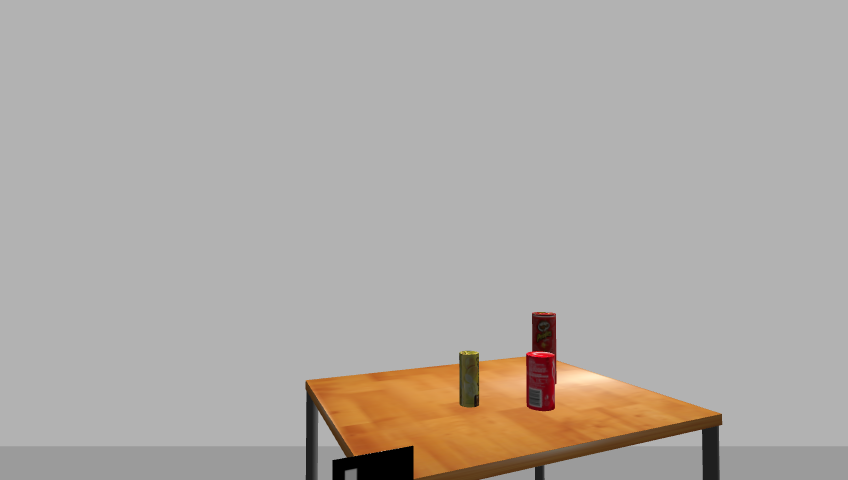aruco marker: (326, 446, 419, 480)
biscuits pack: (457, 350, 481, 409)
coke can: (525, 352, 557, 411)
dinner table: (295, 356, 731, 480)
pringles can: (530, 311, 558, 387)
